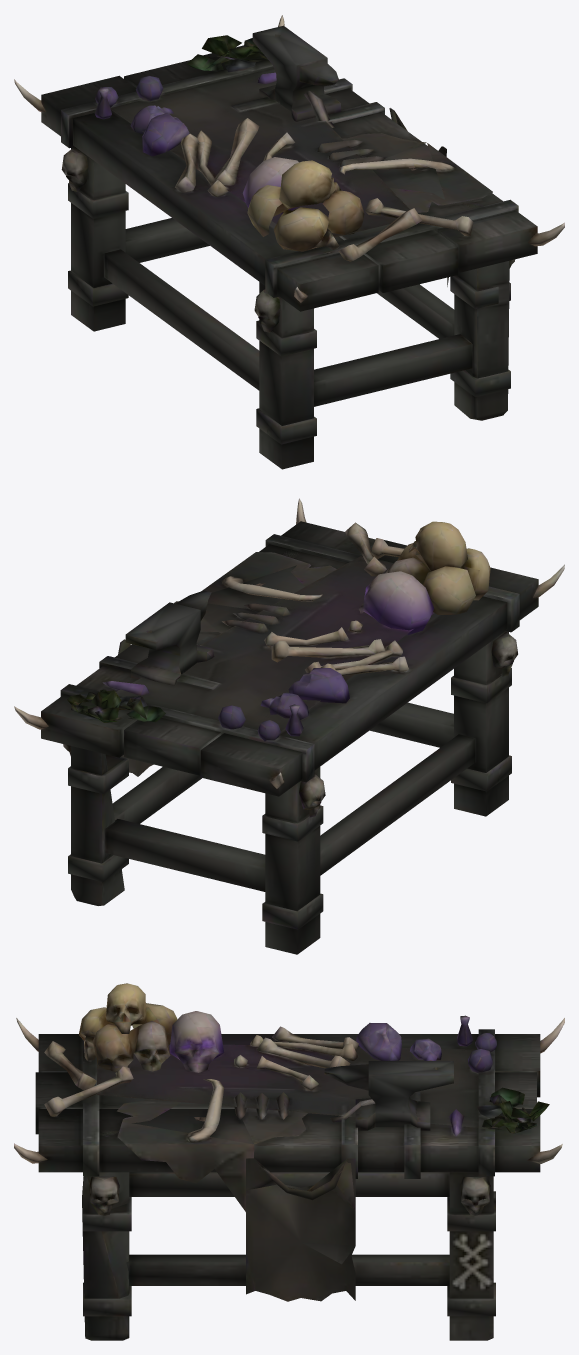
The model's file is workbench.glb.
3 renders of one model, top to bottom at view 1: azimuth 30°, elevation 25°; view 2: azimuth 150°, elevation 25°; view 3: azimuth 270°, elevation 25°, orthographic. The views are drawn at different scales.
Visible parts, largest first — view 1: tripo_node_0354377d-52e0-40e0-9e69-011464e29a39; view 2: tripo_node_0354377d-52e0-40e0-9e69-011464e29a39; view 3: tripo_node_0354377d-52e0-40e0-9e69-011464e29a39.
Boxes of the visible parts, x1,y1,x2,y2 form: tripo_node_0354377d-52e0-40e0-9e69-011464e29a39: [14, 15, 564, 469]; tripo_node_0354377d-52e0-40e0-9e69-011464e29a39: [14, 498, 564, 954]; tripo_node_0354377d-52e0-40e0-9e69-011464e29a39: [14, 983, 564, 1340].
Size of the model in its own units: 0.5879 by 0.541 by 0.998.
Materials: 1 (1 with a texture image).
